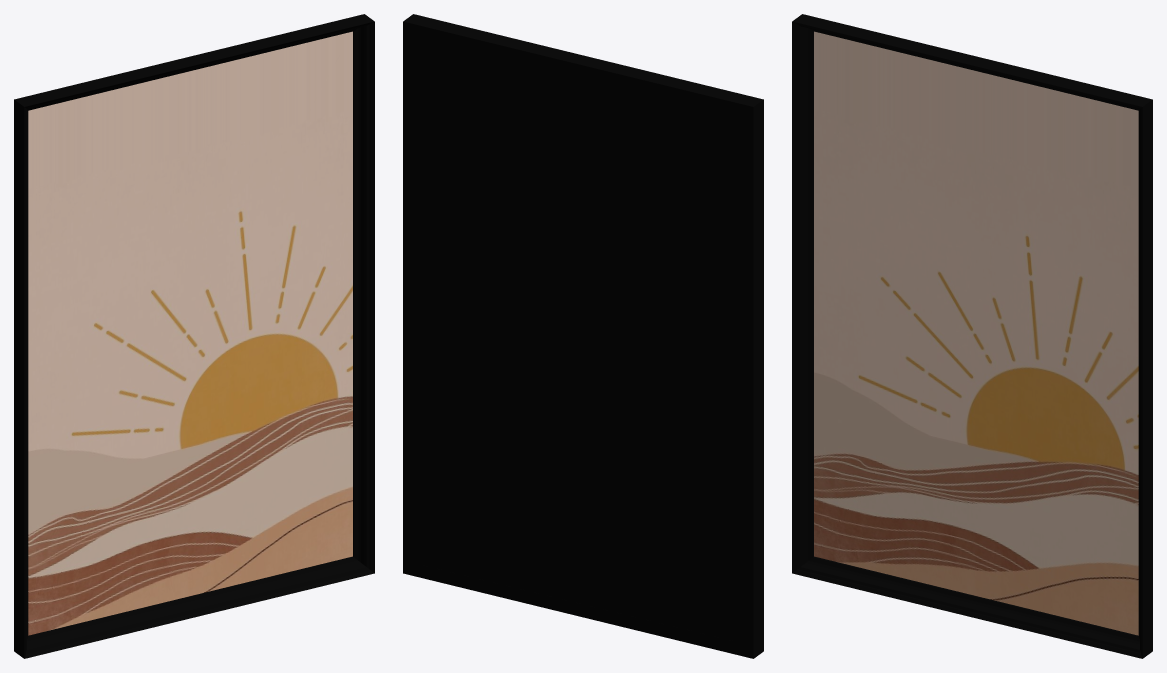
File: photoframe-11.glb
3 renders of one model, left to right at view 1: azimuth 30°, elevation 25°; view 2: azimuth 150°, elevation 25°; view 3: azimuth 330°, elevation 25°, orthographic.
Visible parts, largest first — view 1: NurbsPath.032, NurbsPath.030, NurbsPath.031; view 2: NurbsPath.031; view 3: NurbsPath.032, NurbsPath.030, NurbsPath.031.
Boxes of the visible parts, bbox=[...] form: NurbsPath.032: bbox=[28, 31, 352, 635]; NurbsPath.030: bbox=[24, 21, 374, 658]; NurbsPath.031: bbox=[14, 14, 374, 658]; NurbsPath.031: bbox=[403, 14, 763, 658]; NurbsPath.032: bbox=[814, 31, 1138, 635]; NurbsPath.030: bbox=[792, 21, 1142, 658]; NurbsPath.031: bbox=[792, 14, 1152, 658].
Size of the model in its own units: 0.0451 by 0.0679 by 0.0023.
3 materials, 1 textured.
